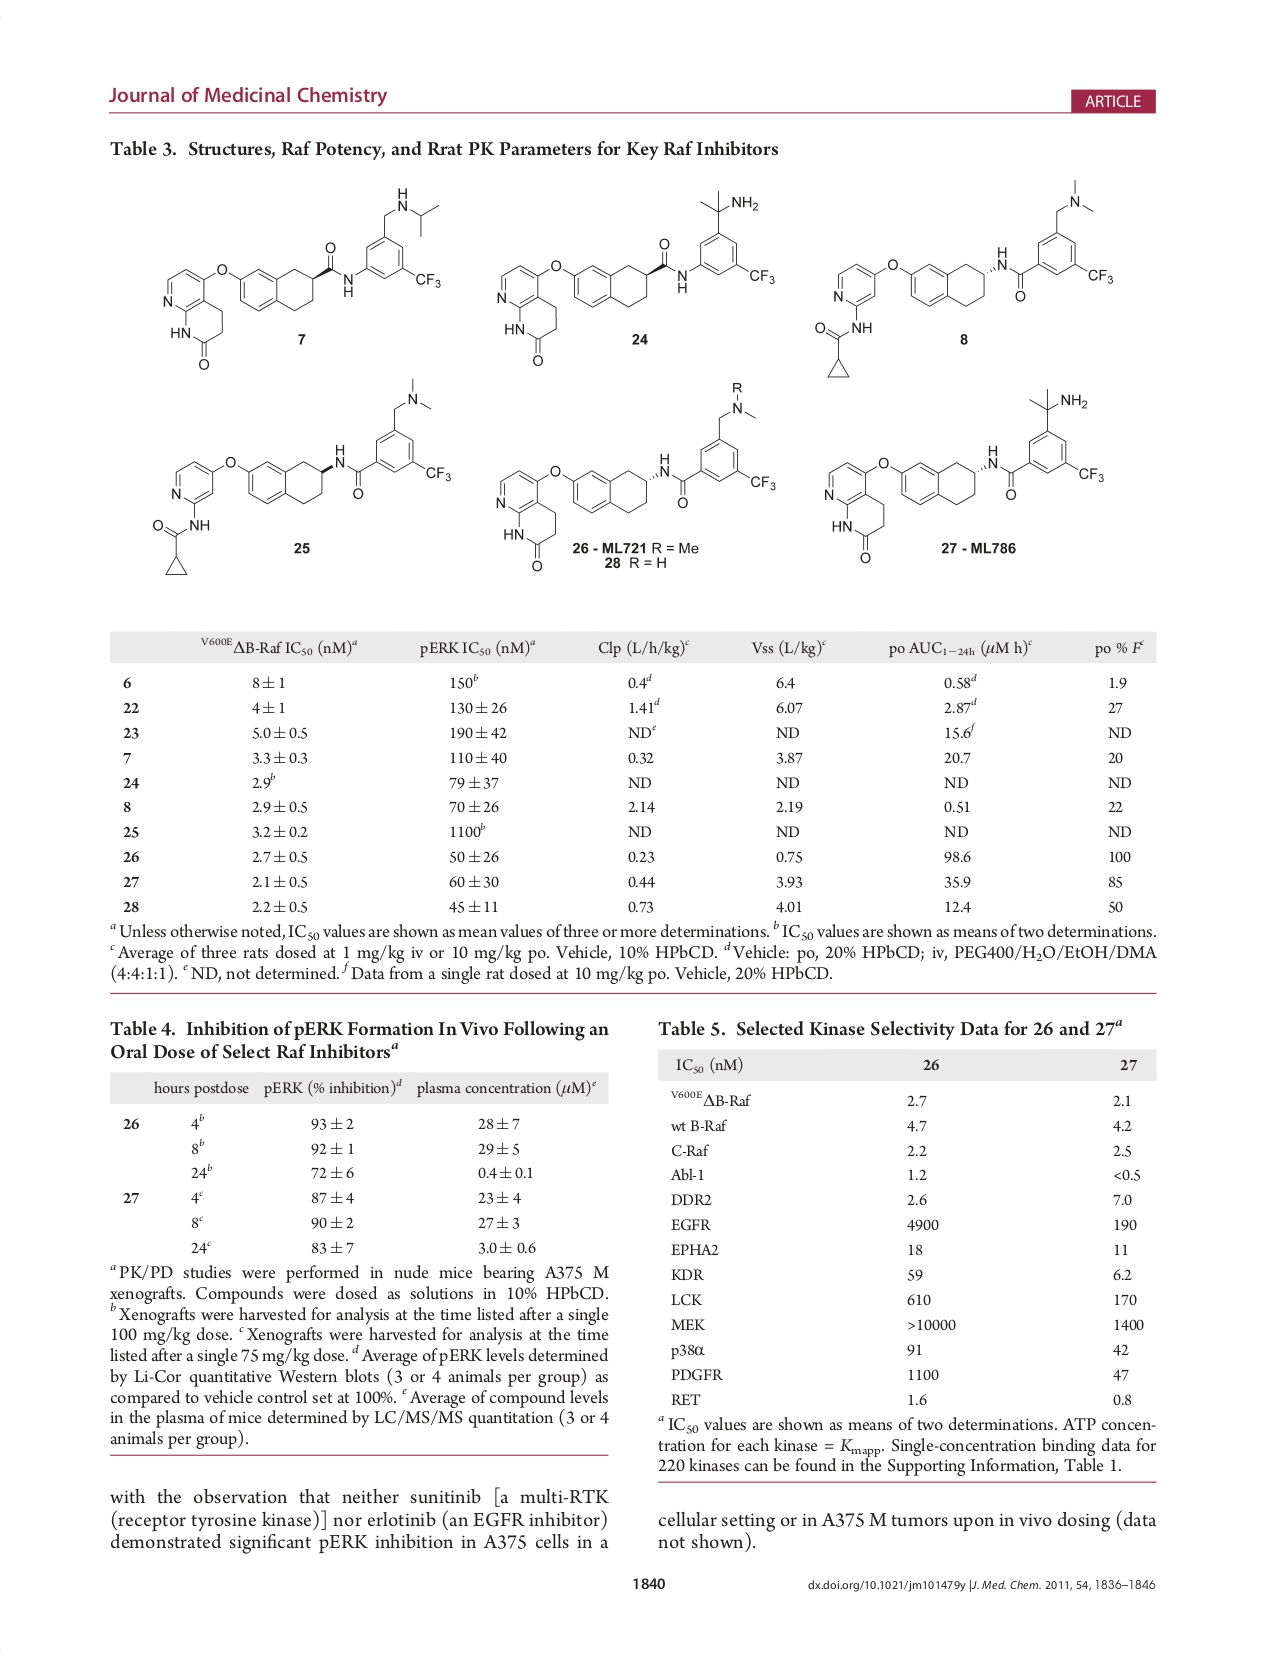exist_molecular: (813, 176, 1118, 383), (149, 375, 456, 578), (491, 378, 781, 572), (160, 186, 447, 372), (821, 386, 1110, 567), (495, 189, 779, 368)
